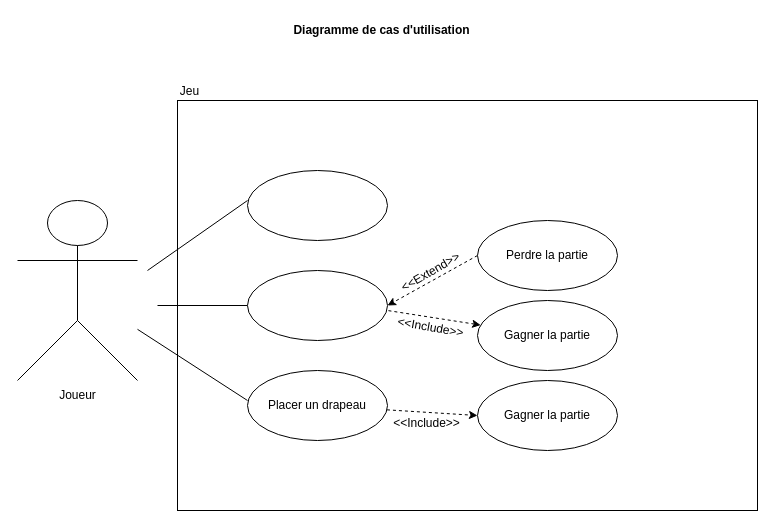
Some shapes in this 775 by 528 pixel diagram are drawn without their labels. The shapes that lost their labels are listed below. From the top down, each one's centre as x and y in pixels, then its label:
At pixel 317 205: "Démarrer une nouvelle partie".
At pixel 317 305: "Cliquer sur une case".
